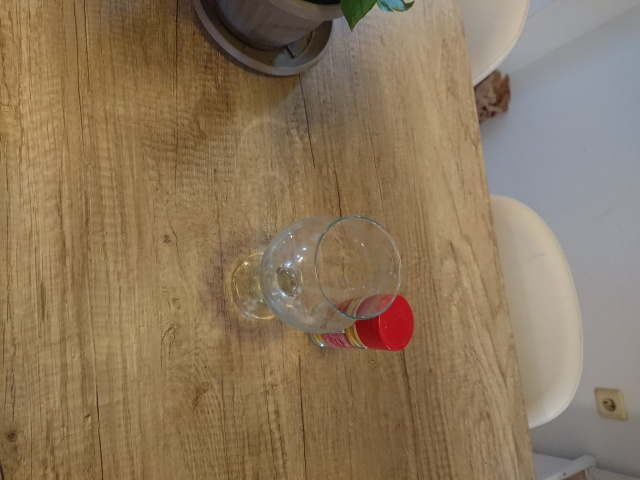Kotanyi Curry Spices Mix 70g: (303, 292, 417, 353)
